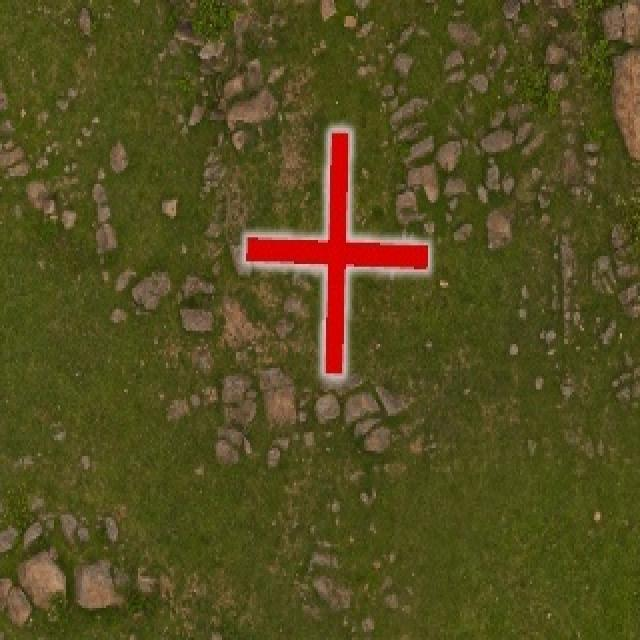x_marker: (245, 129, 427, 375)
